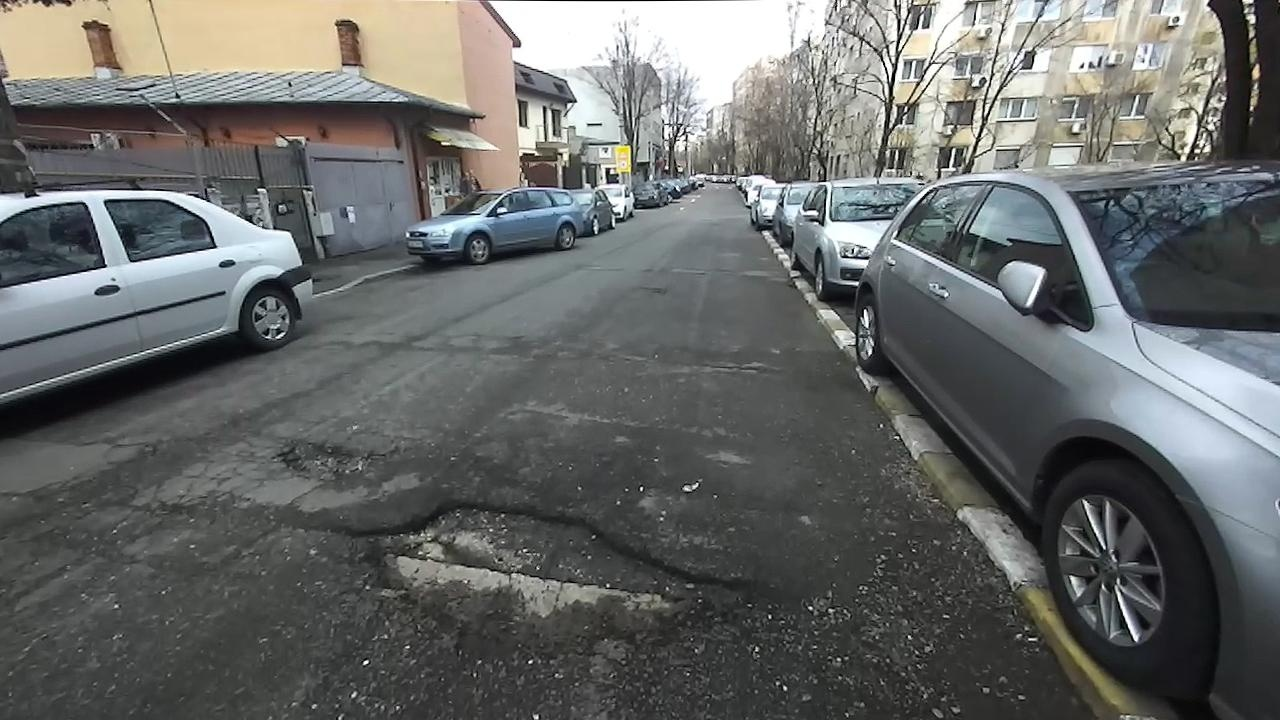pothole: (338, 492, 770, 666), (262, 432, 399, 484), (695, 357, 780, 379)
